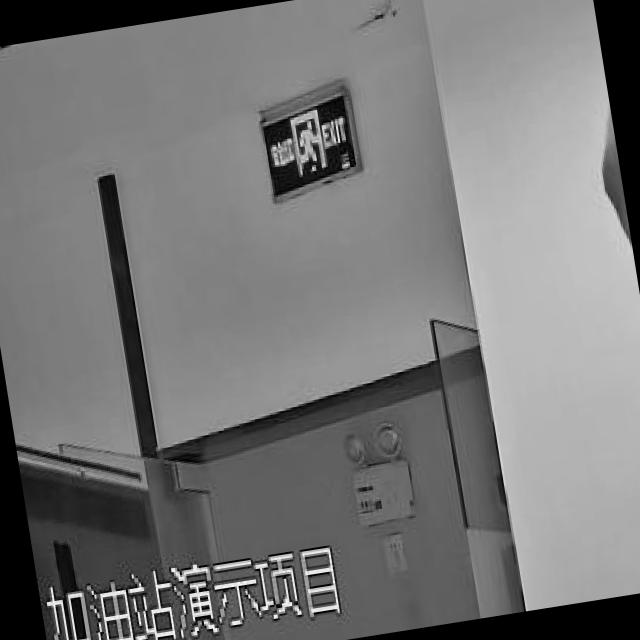Guns: (565, 48, 640, 534)
